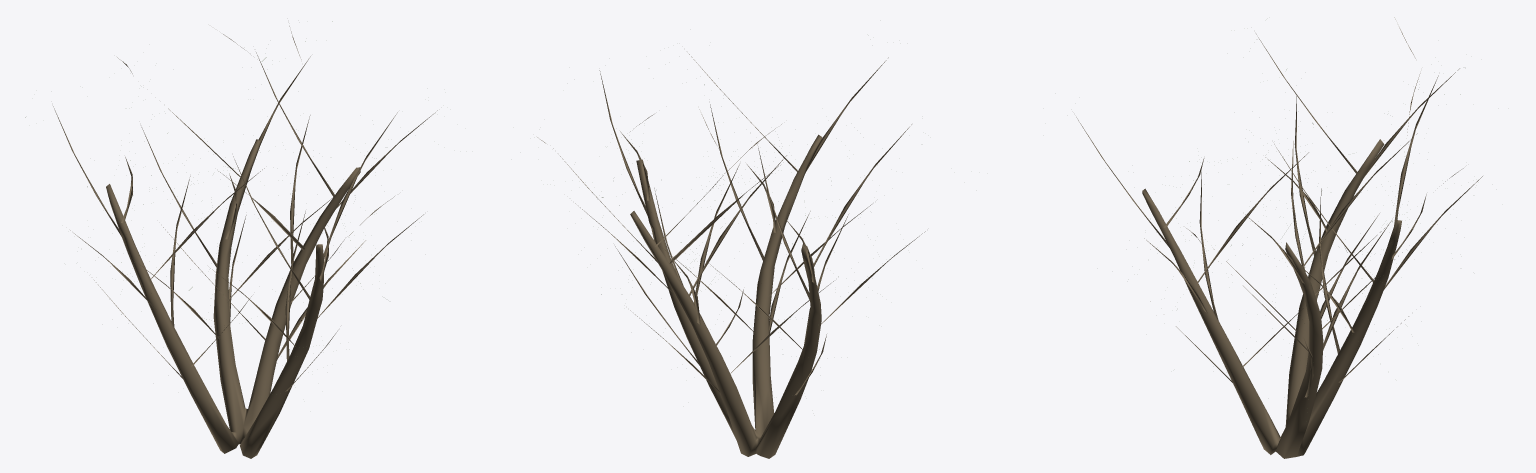
Rendered from Filaire_0_Niveau2.fbx.
3 views of the same model, side by side, from view 1: azimuth 30°, elevation 25°; view 2: azimuth 150°, elevation 25°; view 3: azimuth 270°, elevation 25° (orthographic). The views are drawn at different scales.
Parts seen in each view (by area): view 1: Filaire_0_Niveau2; view 2: Filaire_0_Niveau2; view 3: Filaire_0_Niveau2.
Boxes of the visible parts, x1,y1,x2,y2 form: Filaire_0_Niveau2: (25,21,437,458); Filaire_0_Niveau2: (537,54,925,458); Filaire_0_Niveau2: (1076,17,1482,458).
Bounding box in the file's own units: 121 × 107 × 122.
